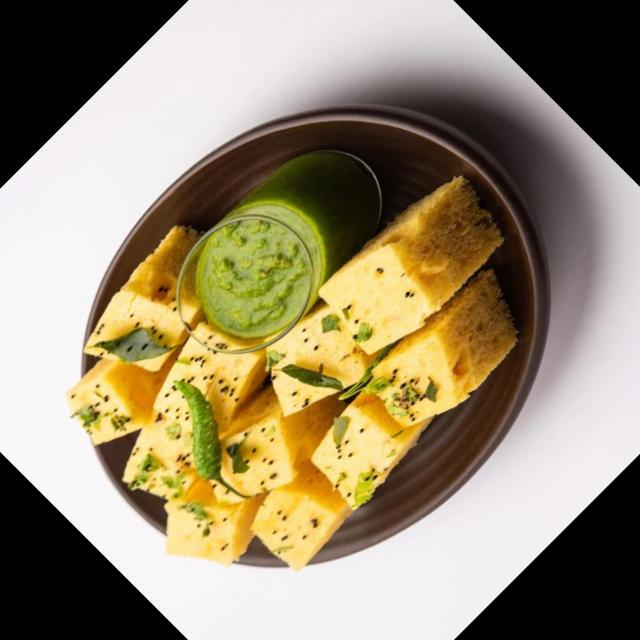dhokla: (120, 173, 568, 622), (2, 236, 260, 494)
